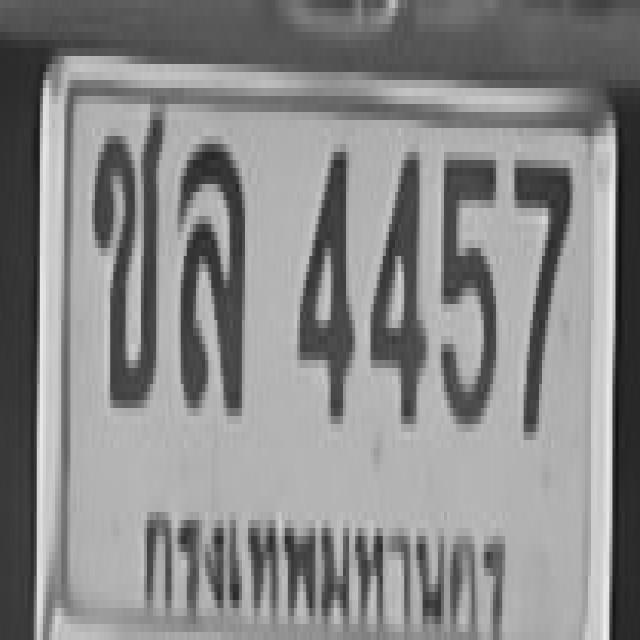19ChorChang: (90, 96, 164, 400)
4: (294, 136, 352, 416), (368, 144, 422, 416)
45LorLing: (176, 132, 240, 404)
5: (438, 148, 496, 420)
7: (512, 152, 570, 432)
Bangkok: (137, 480, 514, 640)
